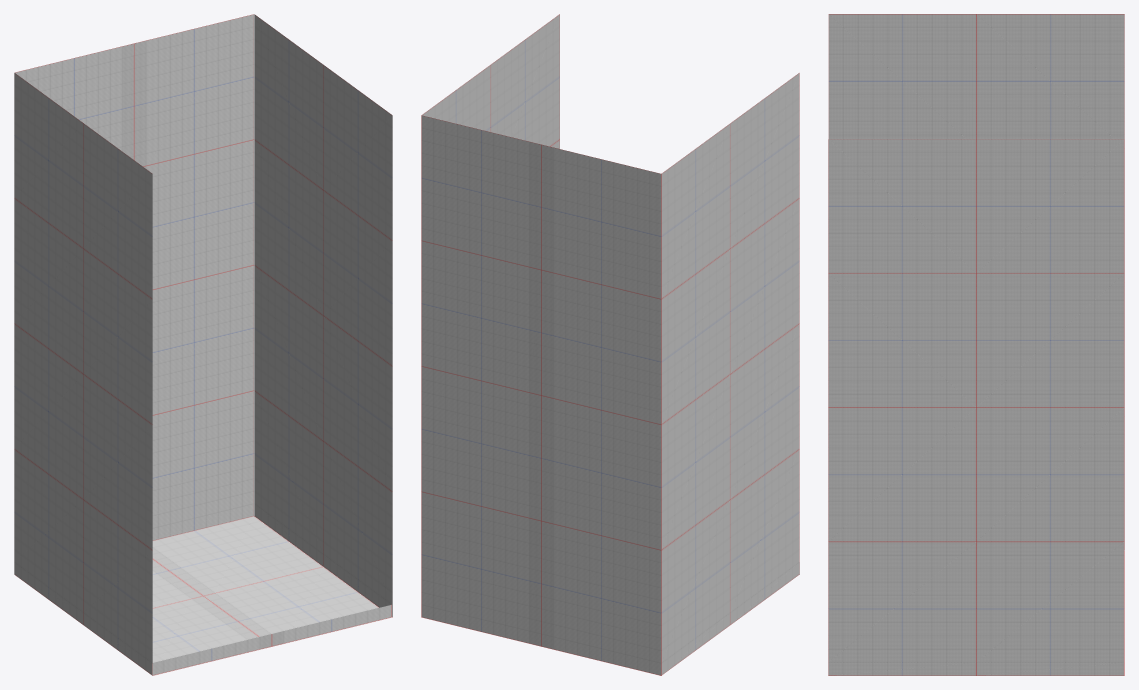
3 renders of one model, left to right at view 1: azimuth 30°, elevation 25°; view 2: azimuth 150°, elevation 25°; view 3: azimuth 270°, elevation 25°, orthographic. The views are drawn at different scales.
Visible parts, largest first — view 1: bg_meshgroupShape; view 2: bg_meshgroupShape; view 3: bg_meshgroupShape.
Boxes of the visible parts, box(x1,y1,x2,y2) form: bg_meshgroupShape: box(14, 14, 392, 675); bg_meshgroupShape: box(421, 14, 799, 675); bg_meshgroupShape: box(828, 14, 1124, 675).
Size of the model in its own units: 214 by 214 by 428.
1 material, 1 textured.
